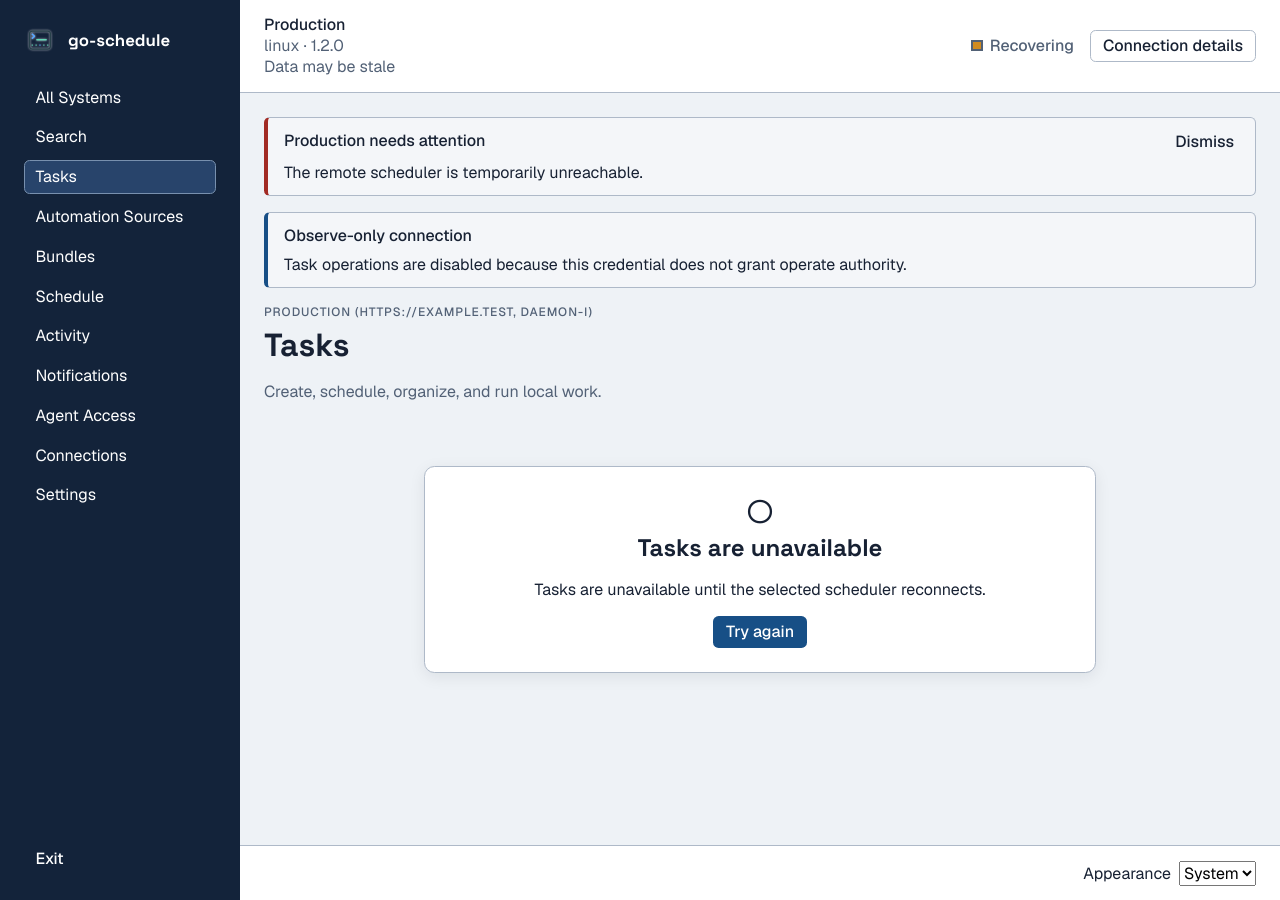
production shell › marks retained remote data stale and exposes recovery details accessibly
The image size is (1280, 900).
Expected: the text "Data may be stale" is shown, left=264, top=56, right=395, bottom=77
Click the button "Connection details".
click(1173, 46)  # box left=1090, top=30, right=1256, bottom=62
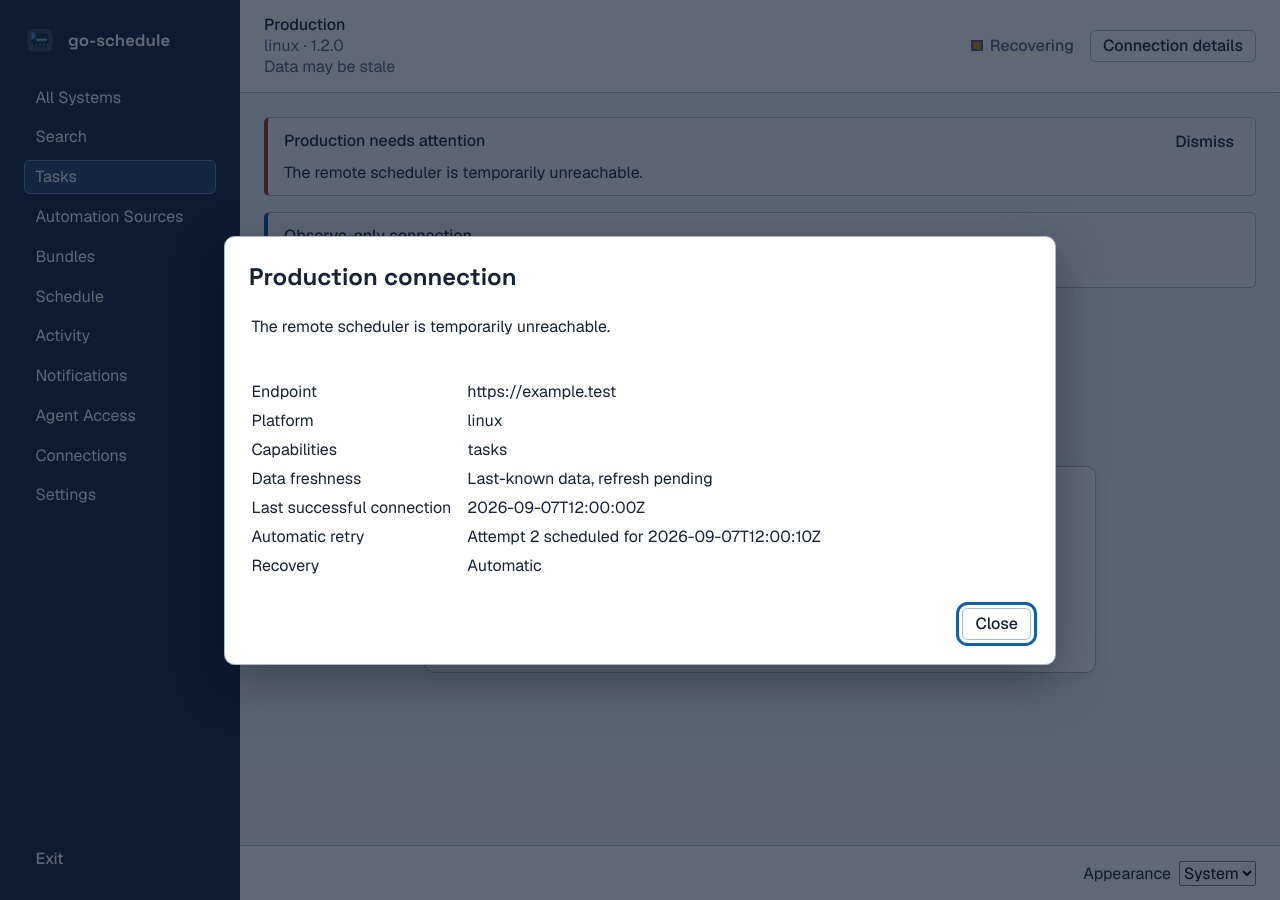
Result: the dialog shows "Attempt 2 scheduled for 2026-09-07T12:00:10Z" at left=224, top=236, right=1056, bottom=664
